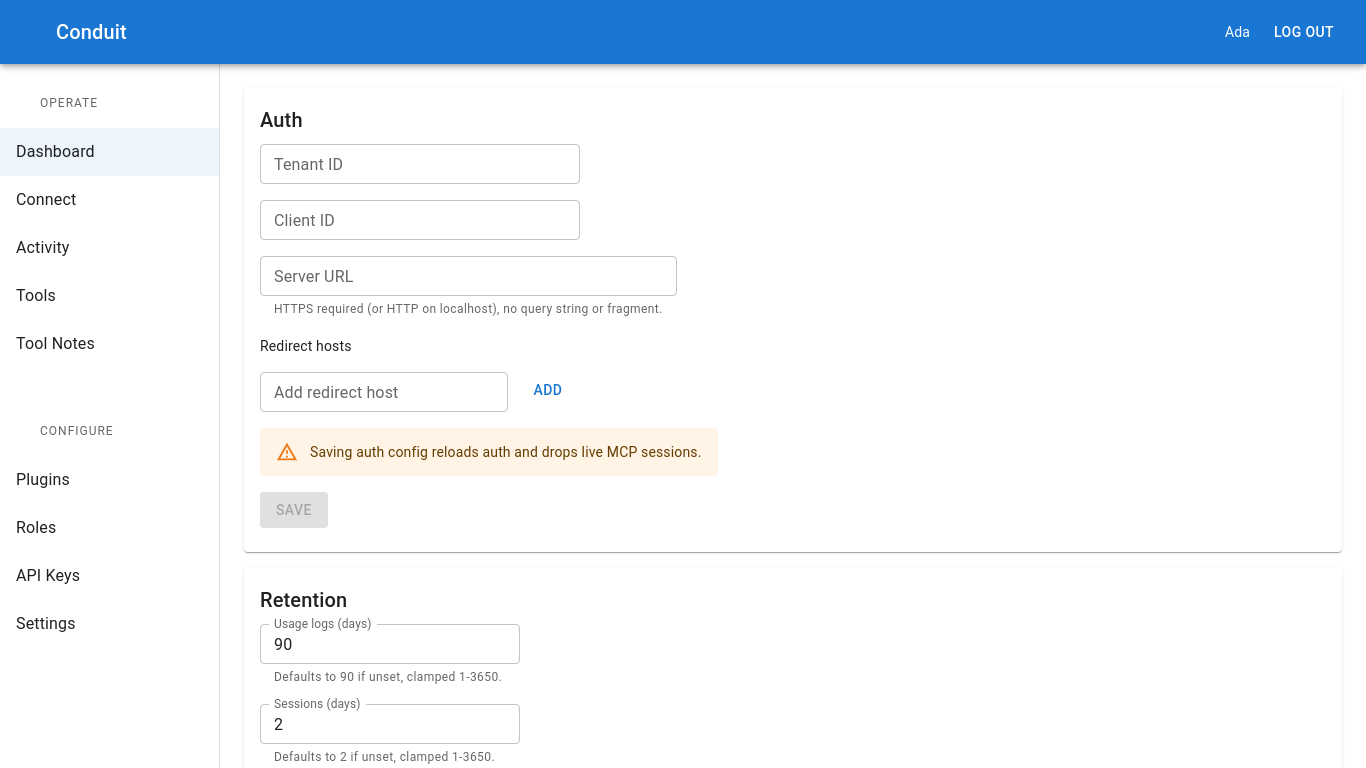
Test: settings page › redirectHosts rejects a dotless, non-localhost entry before adding a chip
The width and height of the screenshot is (1366, 768).
Step 1. Type "ai" into the field labelled "Add redirect host" → x=384, y=392, box [260, 372, 508, 412]
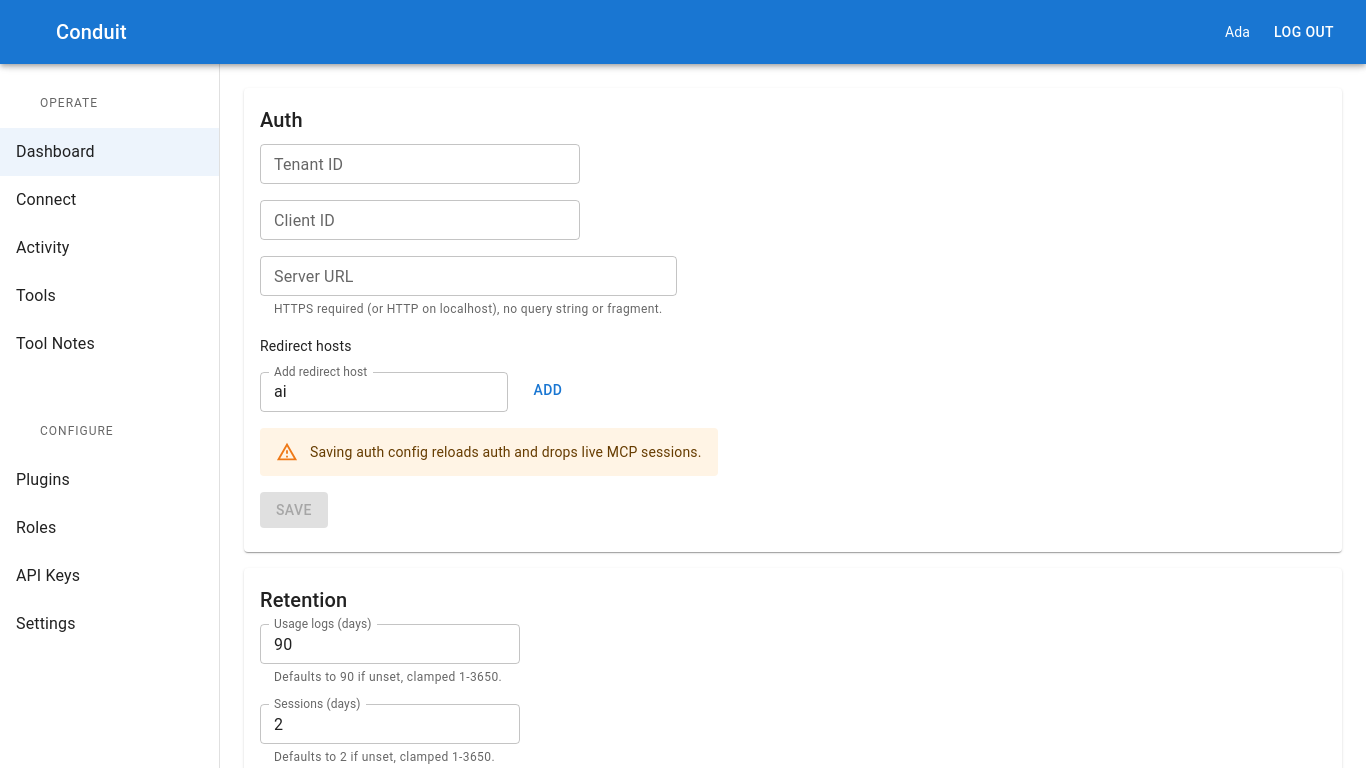
Step 2. Click the button "Add" → x=548, y=390, box [516, 372, 580, 408]
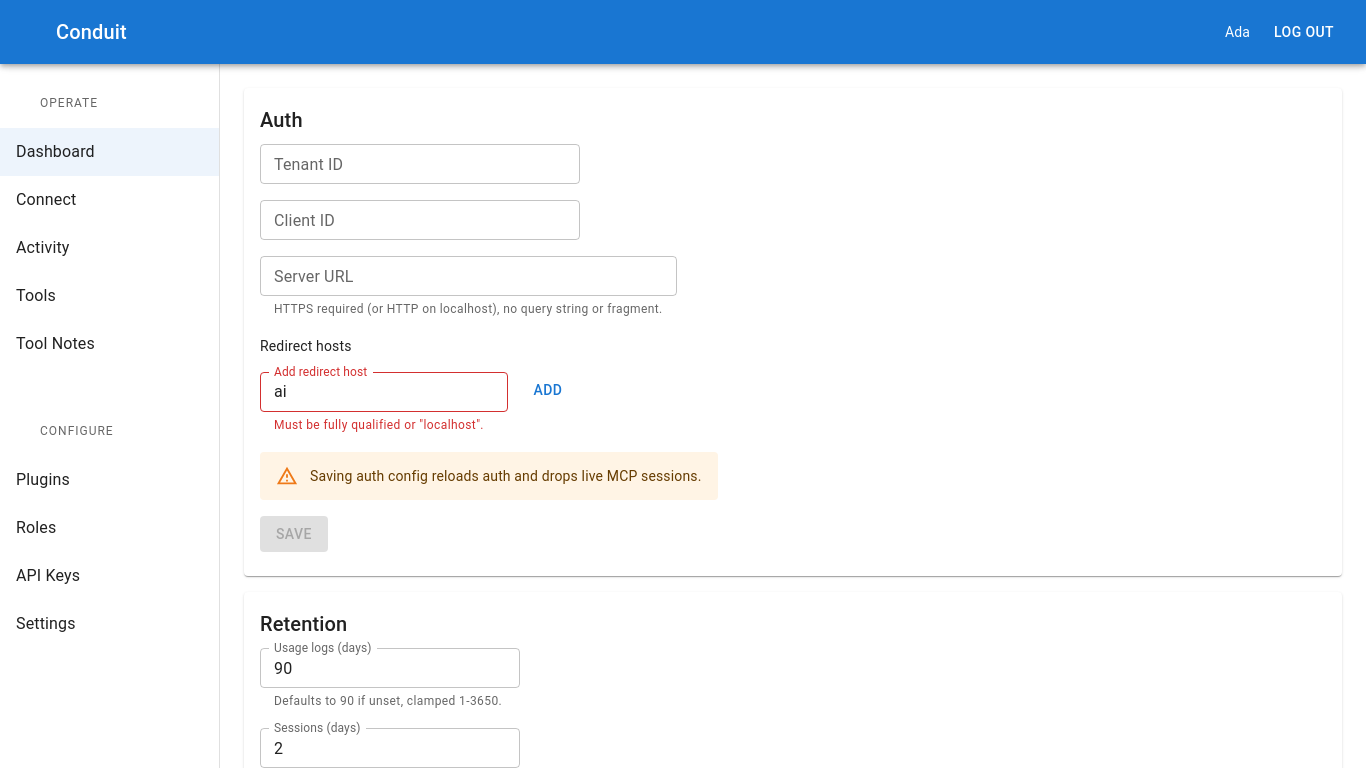
expect the text "Must be fully qualified or \"localhost\"." is shown: met, box [274, 416, 494, 436]
